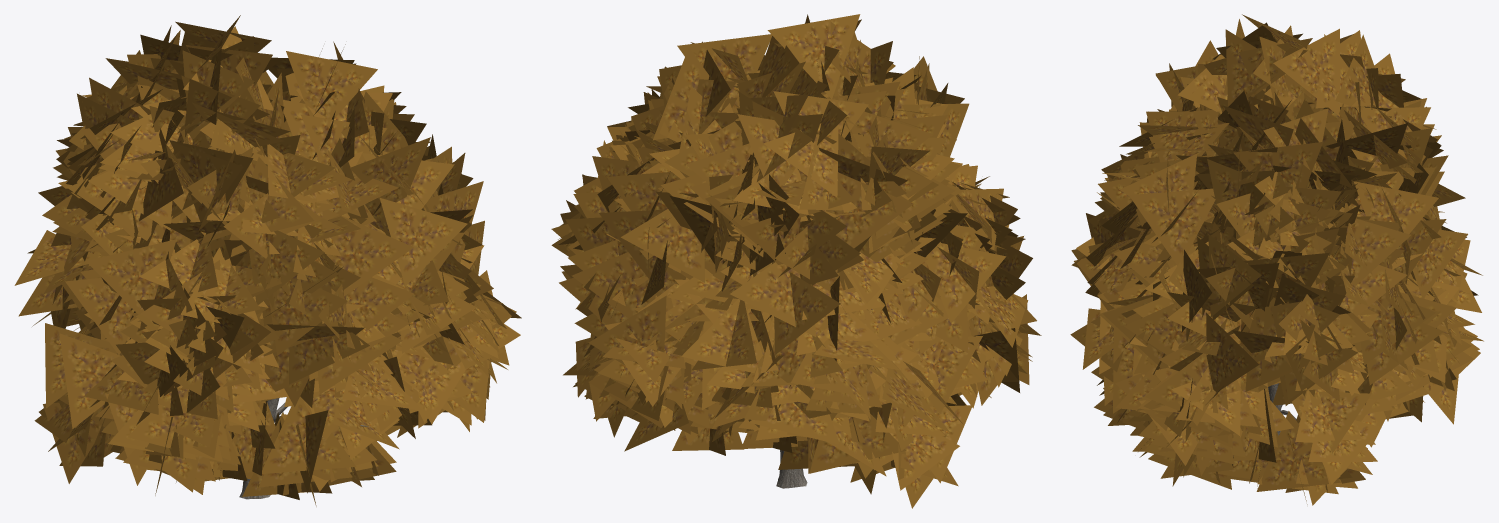
The model's file is Fraxinus_Excelsior_Autumn_Adult.glb.
The picture shows the model from 3 angles, left to right: view 1: azimuth 30°, elevation 25°; view 2: azimuth 150°, elevation 25°; view 3: azimuth 270°, elevation 25°; orthographic projection. The views are drawn at different scales.
Visible parts, largest first — view 1: Fraxinus_Excelsior_Autumn_Adult__LOD3; view 2: Fraxinus_Excelsior_Autumn_Adult__LOD3; view 3: Fraxinus_Excelsior_Autumn_Adult__LOD3.
Part boxes in pixels (x1,y1,x2,y2): Fraxinus_Excelsior_Autumn_Adult__LOD3: (14, 15, 521, 506); Fraxinus_Excelsior_Autumn_Adult__LOD3: (551, 14, 1041, 508); Fraxinus_Excelsior_Autumn_Adult__LOD3: (1070, 14, 1483, 505).
Bounding box in the file's own units: 22.37 × 23.91 × 20.68.
Materials: 2 (2 with a texture image).
